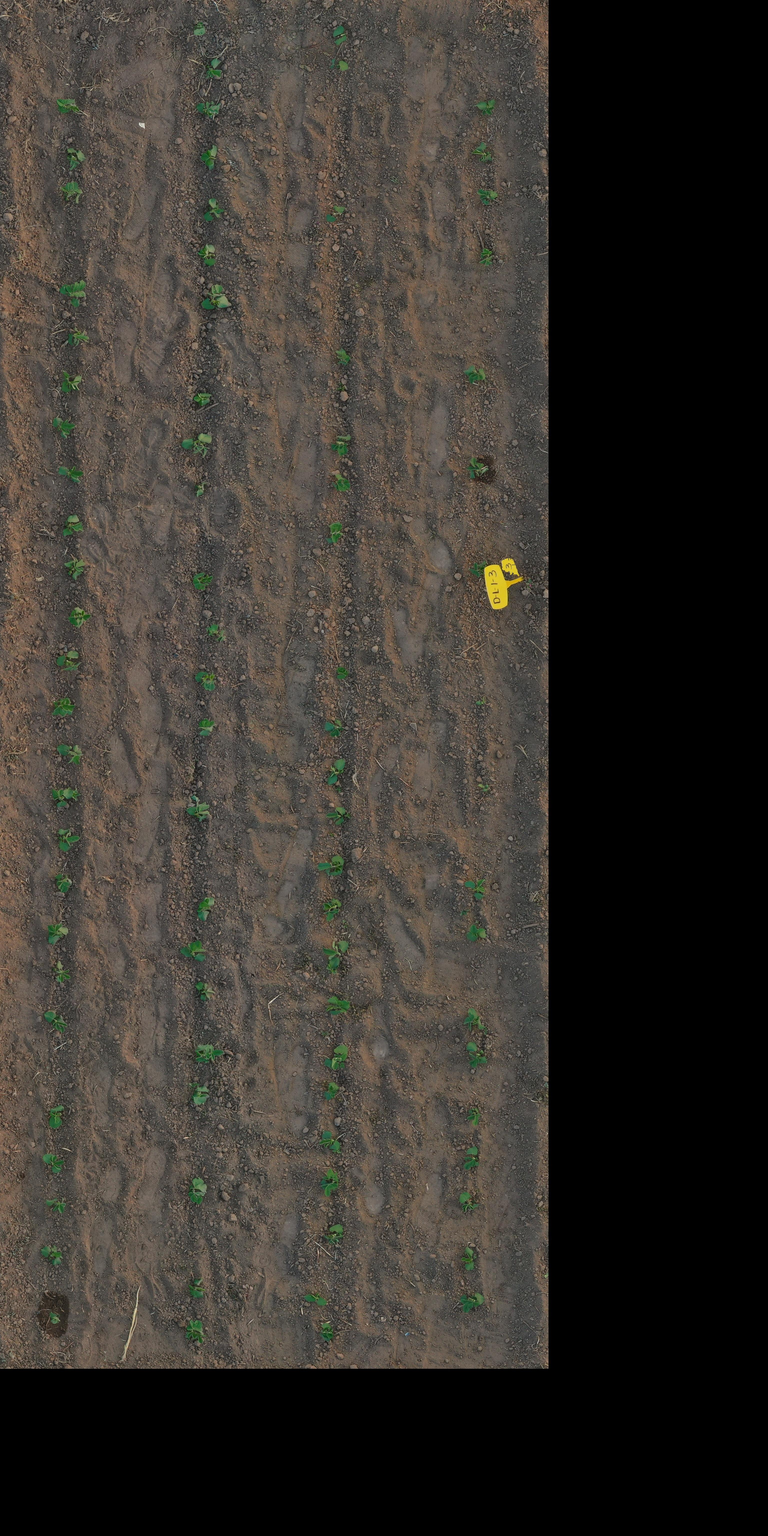s: (200, 284, 232, 310), (59, 280, 86, 308), (322, 940, 349, 968), (181, 433, 212, 457), (186, 795, 210, 822), (324, 1044, 348, 1071), (194, 1044, 224, 1064), (56, 744, 84, 765), (319, 1168, 339, 1197), (184, 1319, 207, 1344), (56, 650, 82, 672), (180, 940, 206, 962), (466, 1042, 488, 1068), (317, 855, 344, 876), (188, 1177, 208, 1205), (68, 606, 92, 629), (57, 828, 80, 852), (44, 1010, 68, 1033), (463, 1008, 486, 1032), (326, 758, 345, 786), (60, 181, 83, 204), (52, 417, 76, 439), (64, 556, 86, 580), (51, 697, 76, 718), (460, 1292, 485, 1313), (67, 325, 90, 347), (61, 370, 83, 393), (62, 514, 84, 537), (47, 922, 69, 945), (204, 198, 225, 222), (40, 1245, 64, 1266), (51, 960, 71, 985), (466, 457, 488, 479), (197, 243, 217, 267), (196, 100, 221, 119), (196, 896, 215, 921), (195, 670, 216, 692), (194, 981, 216, 1002), (464, 879, 486, 900), (42, 1153, 64, 1174), (323, 1223, 344, 1245), (324, 520, 344, 543), (323, 898, 342, 922), (326, 996, 350, 1015), (200, 145, 218, 170), (58, 466, 84, 483), (66, 148, 86, 170), (331, 434, 351, 456), (318, 1130, 340, 1150), (459, 1191, 479, 1213), (51, 788, 74, 807), (460, 1246, 477, 1271), (471, 142, 492, 162), (325, 806, 346, 826), (464, 365, 486, 384), (463, 1146, 480, 1170), (48, 1104, 64, 1129), (188, 1276, 206, 1298), (56, 98, 80, 114), (331, 473, 351, 492), (206, 623, 226, 642), (324, 719, 344, 738), (191, 1085, 210, 1105), (192, 572, 213, 590), (466, 924, 487, 942), (474, 99, 496, 116), (476, 188, 498, 205), (54, 873, 72, 893), (205, 58, 222, 79), (198, 718, 217, 736), (468, 560, 487, 578), (46, 1197, 66, 1214), (303, 1292, 327, 1306), (326, 205, 345, 222), (332, 25, 347, 46), (323, 1082, 340, 1100), (319, 1322, 334, 1342), (335, 348, 351, 366), (466, 1107, 481, 1126), (192, 392, 212, 406), (478, 248, 493, 266), (329, 58, 348, 71), (194, 481, 207, 497), (193, 22, 206, 36), (336, 667, 350, 679), (49, 1311, 60, 1324), (475, 696, 487, 706), (477, 784, 489, 792)
